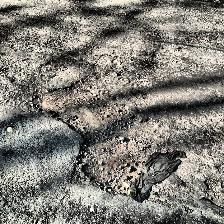pothole: (29, 75, 167, 199)
